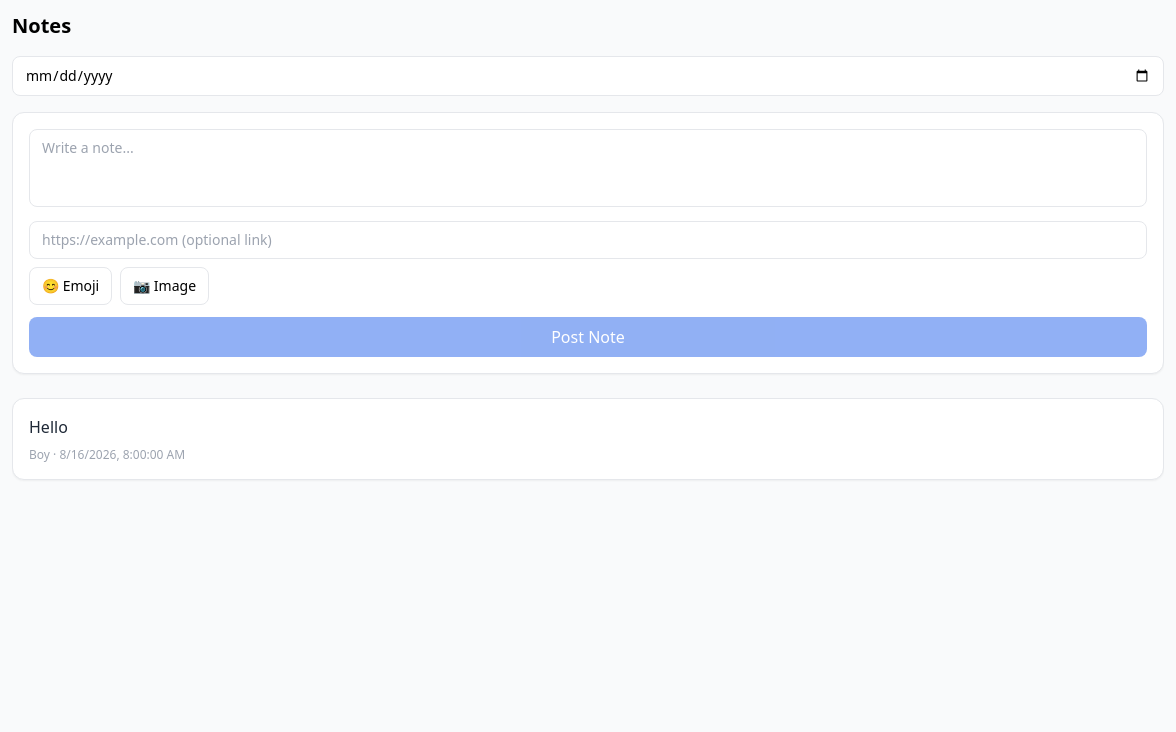
Test: NotesPage › rejects an invalid link URL with an error
In the field with placeholder "https://example.com (optional link)": (588, 240) [29,221,1147,259], type "not-a-url"
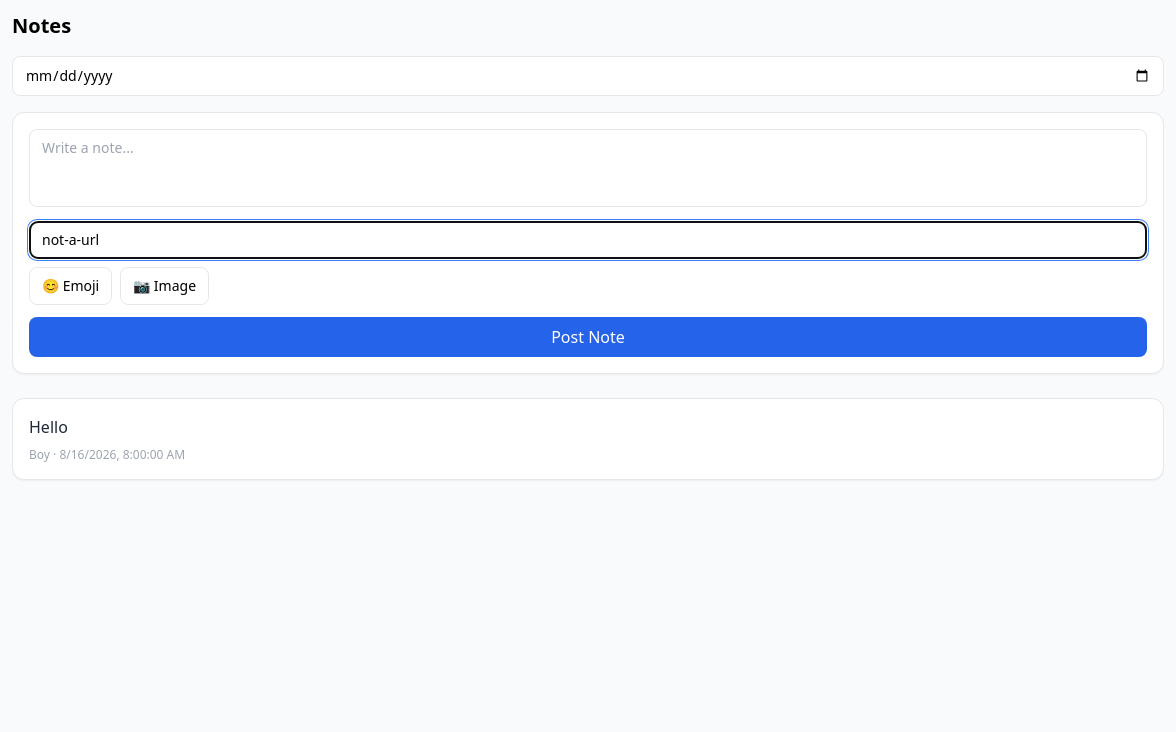
Click the button "Post Note": (588, 337) [29,317,1147,357]
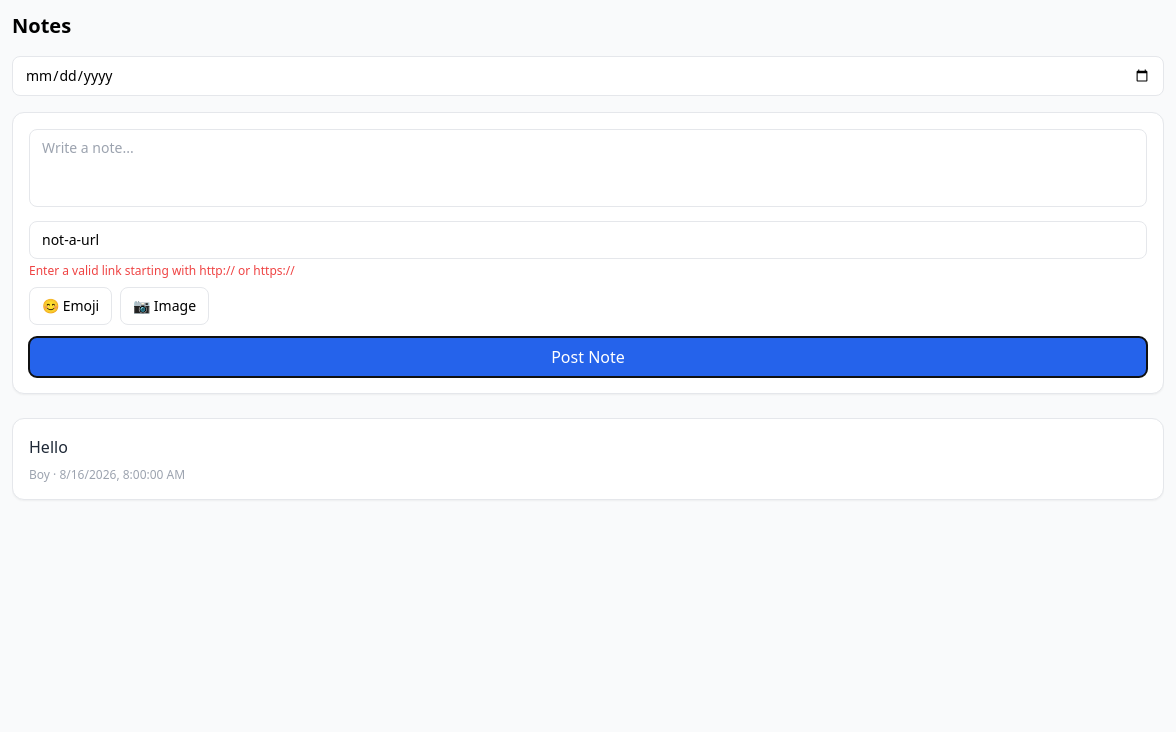
Expected: the text "Enter a valid link starting with http:// or https://" is shown, [29,262,295,279]
